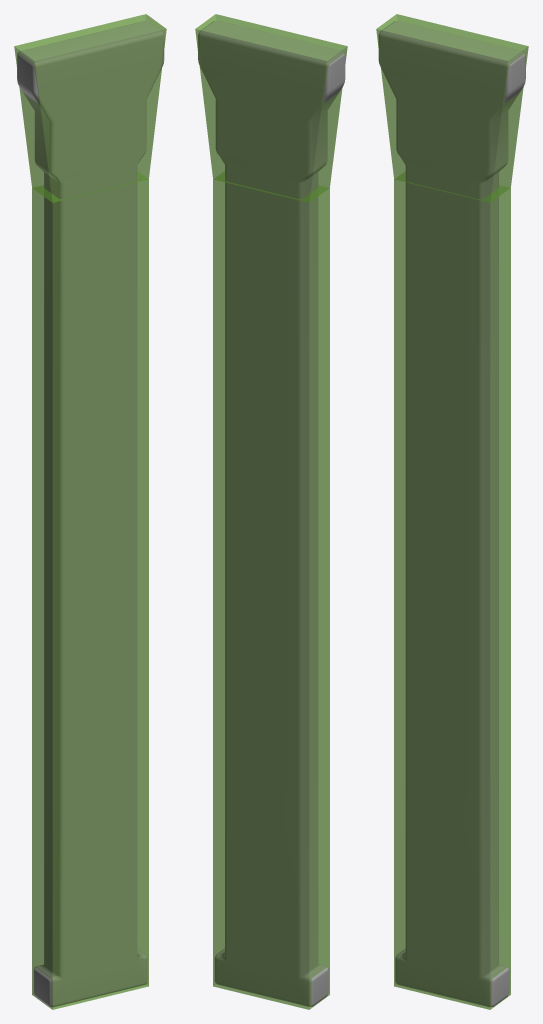
The model's file is M_md_StallWall_end_01.fbx.
3 views of the same model, side by side, from view 1: azimuth 30°, elevation 25°; view 2: azimuth 150°, elevation 25°; view 3: azimuth 330°, elevation 25° (orthographic).
Parts seen in each view (by area): view 1: M_md_StallWall_end_01, M_md_StallWall_end_01_col_02, M_md_StallWall_end_01_col_01; view 2: M_md_StallWall_end_01, M_md_StallWall_end_01_col_02, M_md_StallWall_end_01_col_01; view 3: M_md_StallWall_end_01, M_md_StallWall_end_01_col_02, M_md_StallWall_end_01_col_01.
Boxes of the visible parts, x1,y1,x2,y2 form: M_md_StallWall_end_01: (17, 21, 164, 1007); M_md_StallWall_end_01_col_02: (32, 172, 148, 1009); M_md_StallWall_end_01_col_01: (14, 14, 166, 202); M_md_StallWall_end_01: (198, 20, 345, 1006); M_md_StallWall_end_01_col_02: (213, 171, 329, 1009); M_md_StallWall_end_01_col_01: (195, 14, 347, 202); M_md_StallWall_end_01: (378, 21, 525, 1007); M_md_StallWall_end_01_col_02: (394, 172, 510, 1009); M_md_StallWall_end_01_col_01: (376, 14, 528, 202).
Size of the model in its own units: 36.43 by 251 by 9.78.
